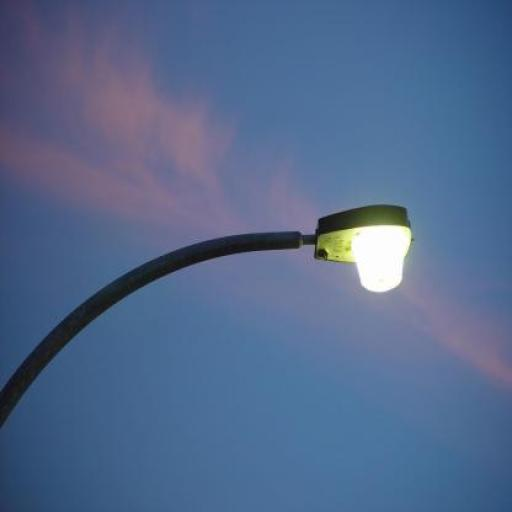street light: (0, 203, 414, 438)
